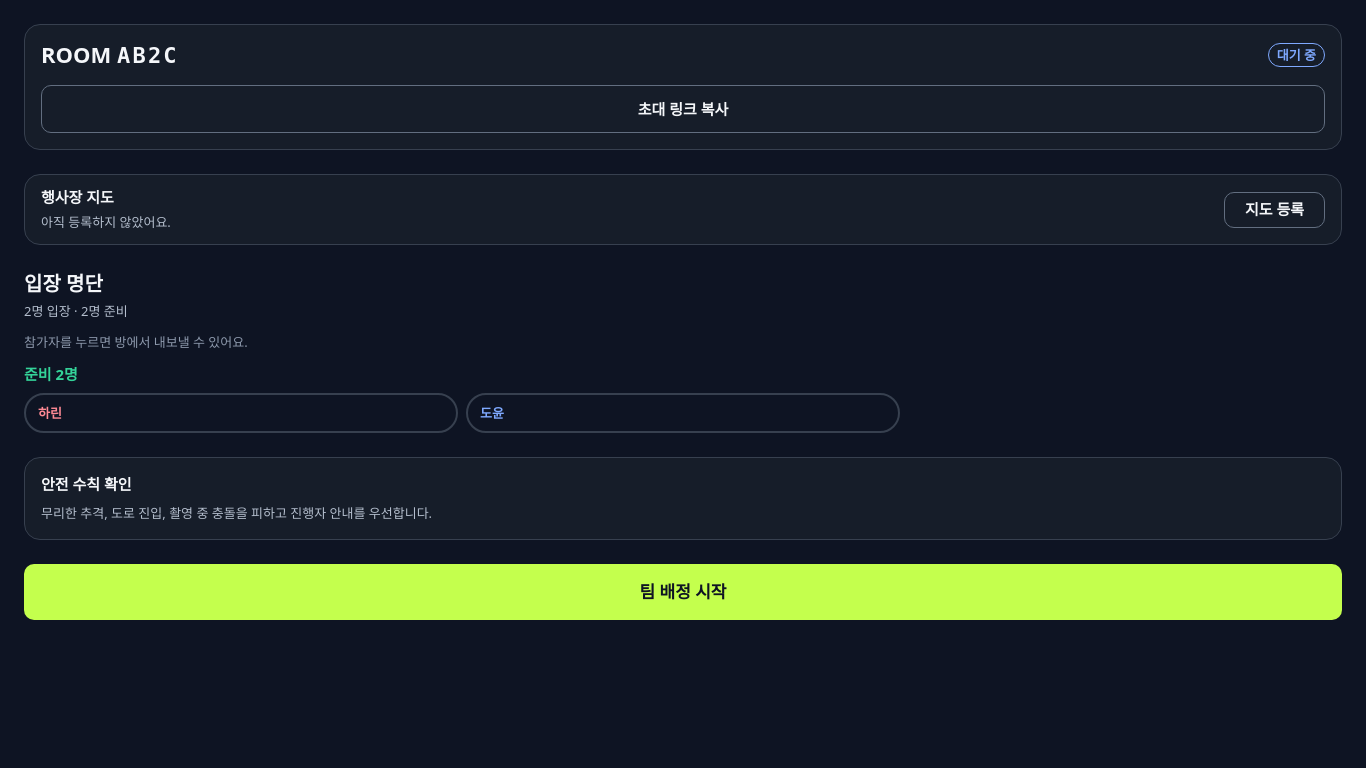
Test: WaitingRoomPage › 호스트: 명단 칩을 누르면 내보내기 확인 다이얼로그가 열린다
What coordinates should you click on to do the following:
click the button with aria-label "하린(준비) 내보내기"
I would click on:
 (241, 413)
Its box is [24,393,458,433].
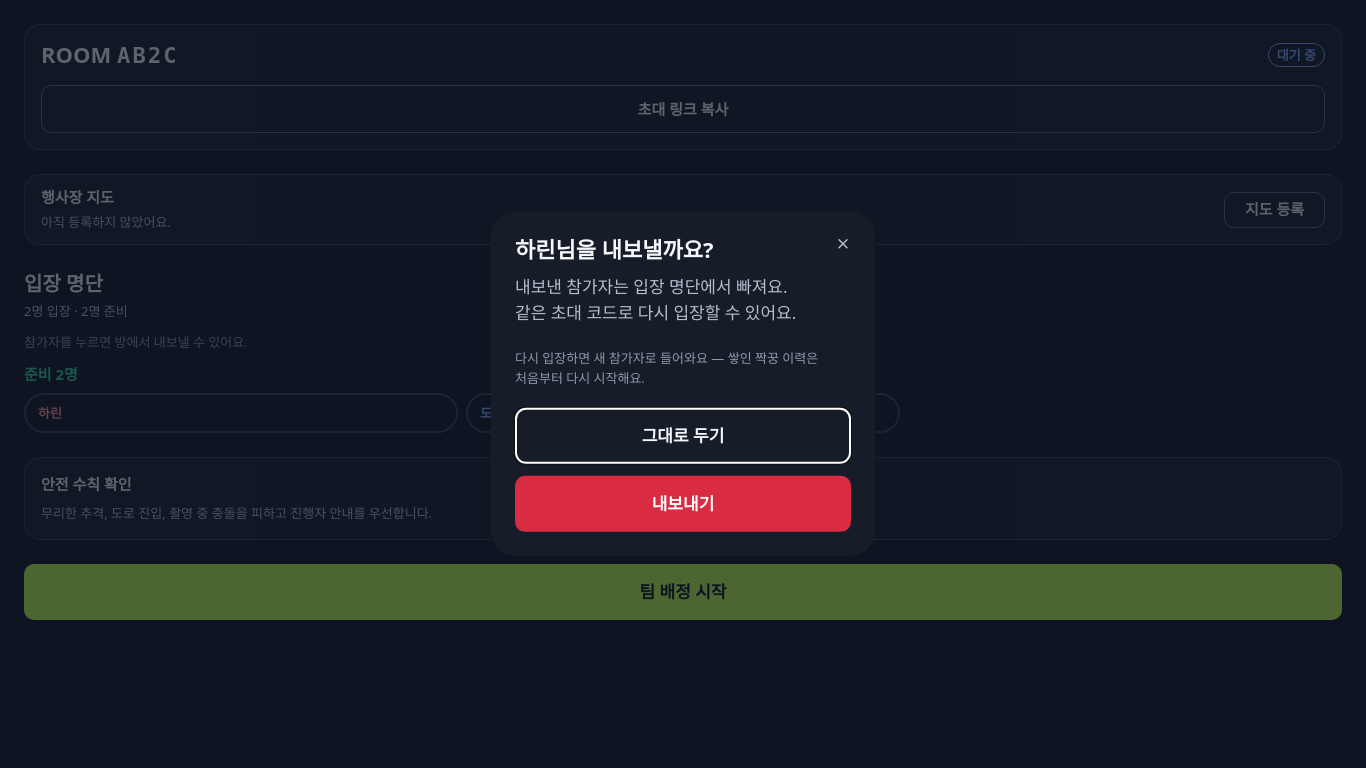
Now the text "하린님을 내보낼까요?" is shown, box [515,234,713,264]
